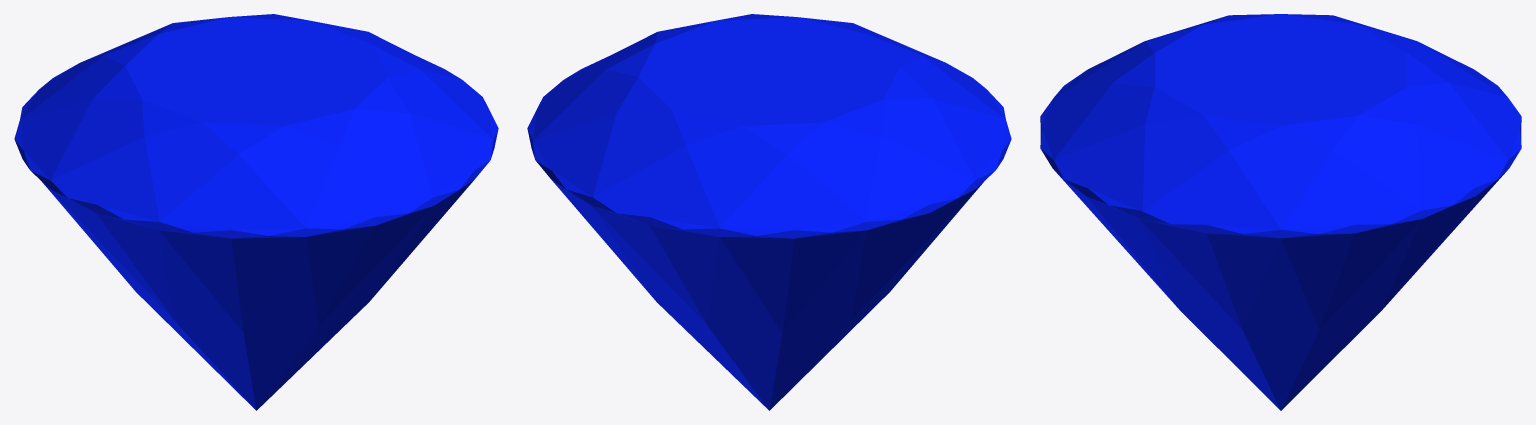
The model's file is BlueChaosEmerald.obj.
3 views of the same model, side by side, from view 1: azimuth 30°, elevation 25°; view 2: azimuth 150°, elevation 25°; view 3: azimuth 270°, elevation 25° (orthographic).
Parts seen in each view (by area): view 1: emerald_2; view 2: emerald_2; view 3: emerald_2.
Part boxes in pixels (x1,y1,x2,y2): emerald_2: (14, 14, 498, 410); emerald_2: (527, 14, 1011, 410); emerald_2: (1040, 14, 1521, 410).
Bounding box in the file's own units: 0.0262 × 0.0205 × 0.0262.
